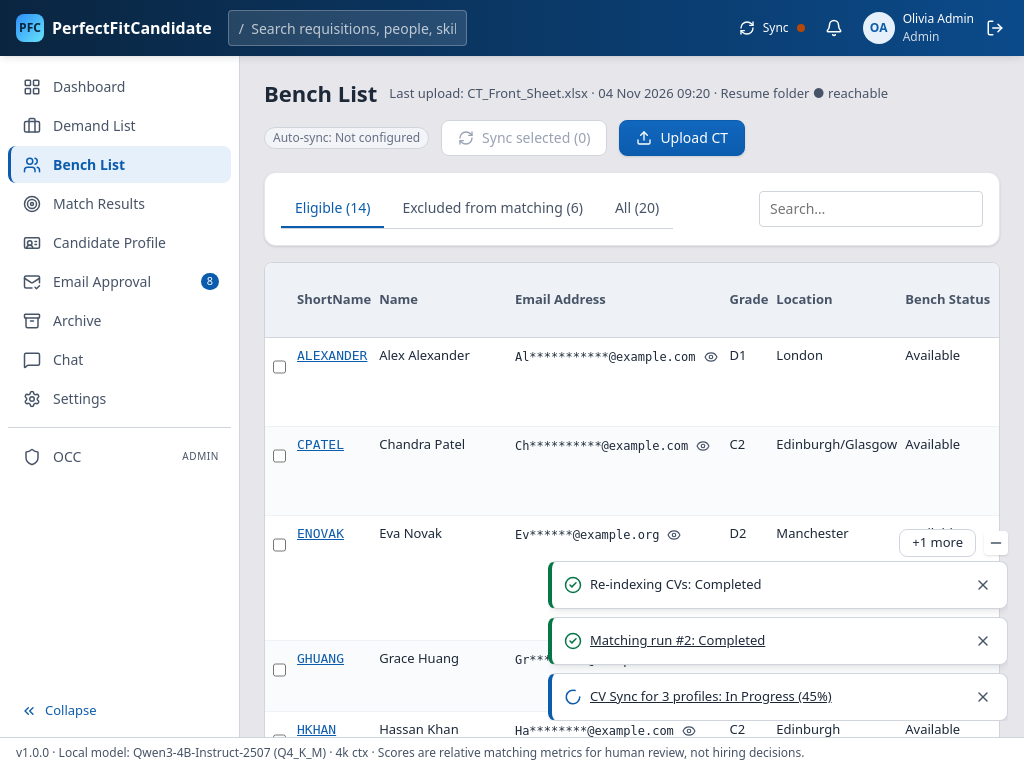
Test: shows truthful busy status and selected local model, preserves cards across navigation
Expected: the message named "Sync: tasks in progress" is shown, [739,19,805,37]
Click the link "Demand List" at x=79, y=126, box [23,116,136,135]
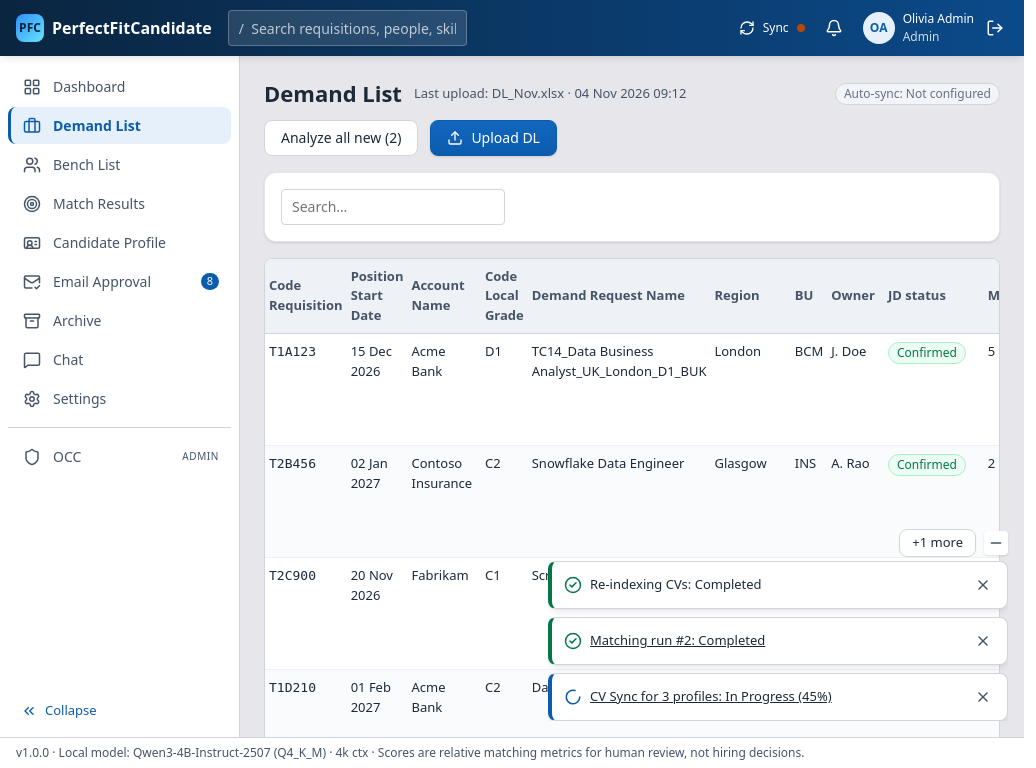
Expected: the link "CV Sync for 3 profiles: In Progress (45%)" is shown, [590,687,832,705]
Result: the heading "Demand List" is shown at [264,80,402,108]
